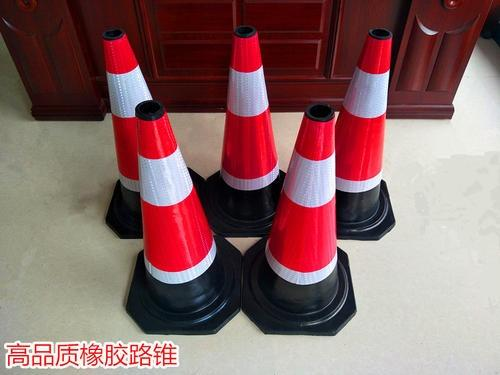cone_barrel: (132, 99, 233, 318), (256, 102, 353, 323), (326, 28, 400, 234), (209, 27, 284, 222), (98, 32, 160, 229)
